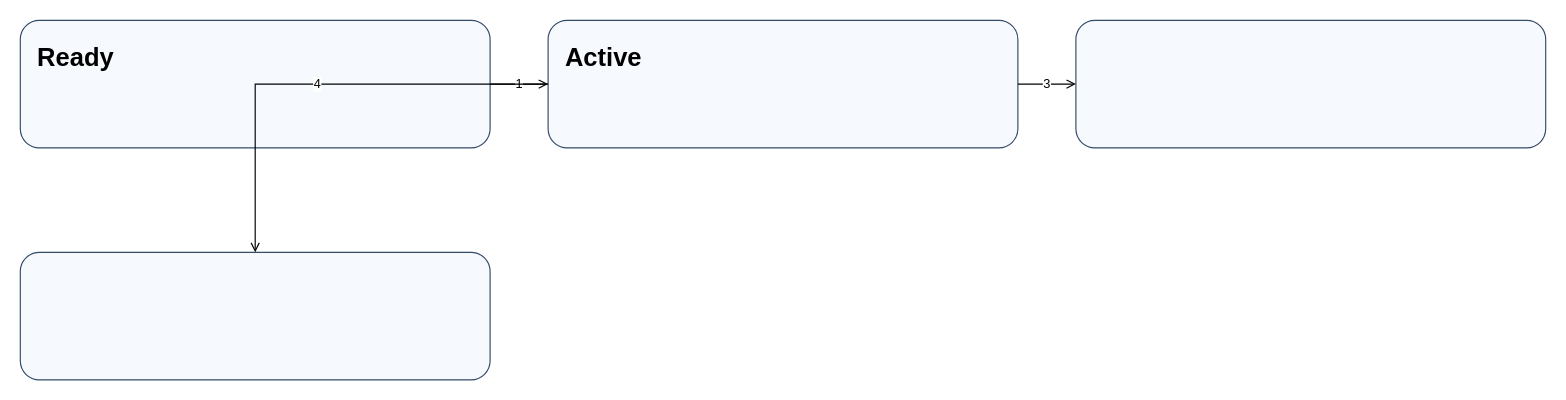
This 1566x400 diagram has some shape labels left out. Each missing label, with the centre of its shape:
"Abandoned" belongs at (x=254, y=315).
"Completed" belongs at (x=1310, y=83).
